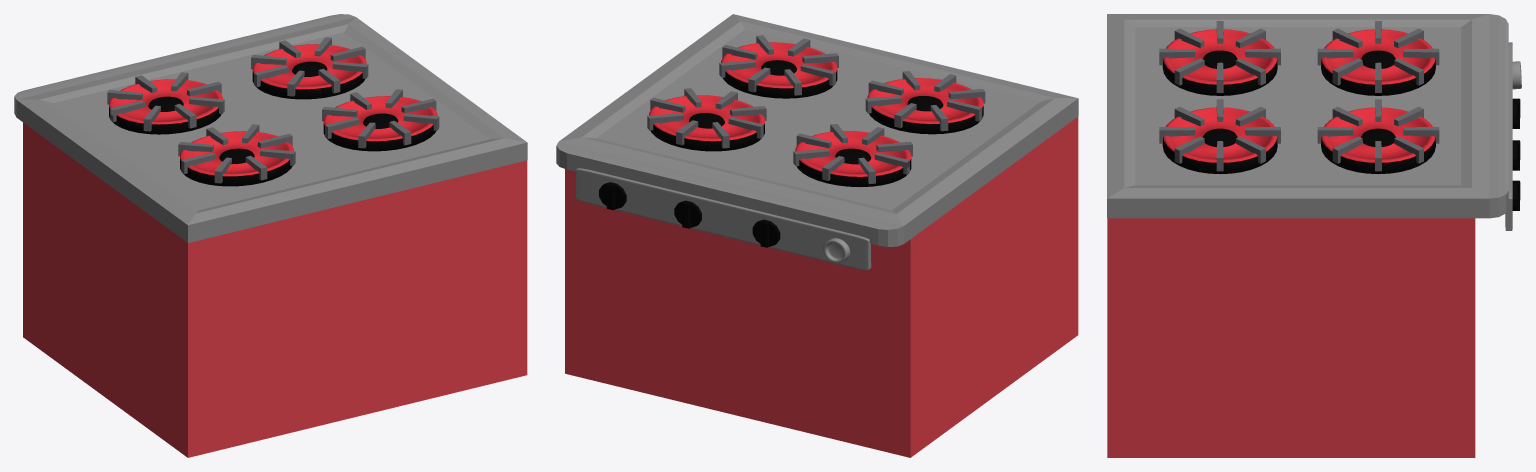
File: stovetop.glb
The picture shows the model from 3 angles, left to right: view 1: azimuth 30°, elevation 25°; view 2: azimuth 150°, elevation 25°; view 3: azimuth 270°, elevation 25°; orthographic projection. The views are drawn at different scales.
Visible parts, largest first — view 1: Cube.012, Object.001; view 2: Cube.012, Object.001; view 3: Cube.012, Object.001.
Part boxes in pixels (x1=…): Cube.012: x1=14, y1=14, x2=527, y2=457; Object.001: x1=107, y1=37, x2=439, y2=186; Cube.012: x1=556, y1=14, x2=1078, y2=457; Object.001: x1=575, y1=35, x2=985, y2=270; Cube.012: x1=1107, y1=14, x2=1508, y2=457; Object.001: x1=1159, y1=21, x2=1521, y2=230.
Bounding box in the file's own units: 0.9991 × 0.699 × 0.9482.
